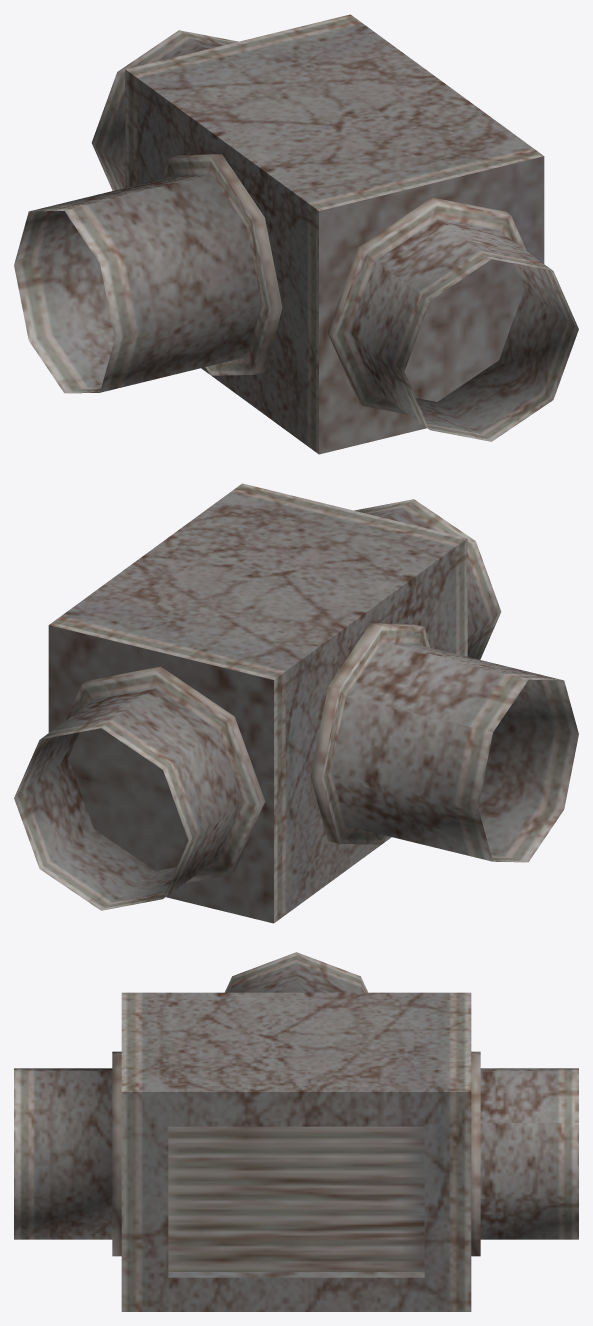
File: Venting5.fbx
The picture shows the model from 3 angles, top to bottom: view 1: azimuth 30°, elevation 25°; view 2: azimuth 150°, elevation 25°; view 3: azimuth 270°, elevation 25°; orthographic projection. The views are drawn at different scales.
Visible parts, largest first — view 1: Venting5; view 2: Venting5; view 3: Venting5.
Part boxes in pixels (x1,y1,x2,y2): Venting5: (14,14,578,454); Venting5: (14,483,578,923); Venting5: (14,952,578,1311).
Size of the model in its own units: 141 by 85.9 by 200.
